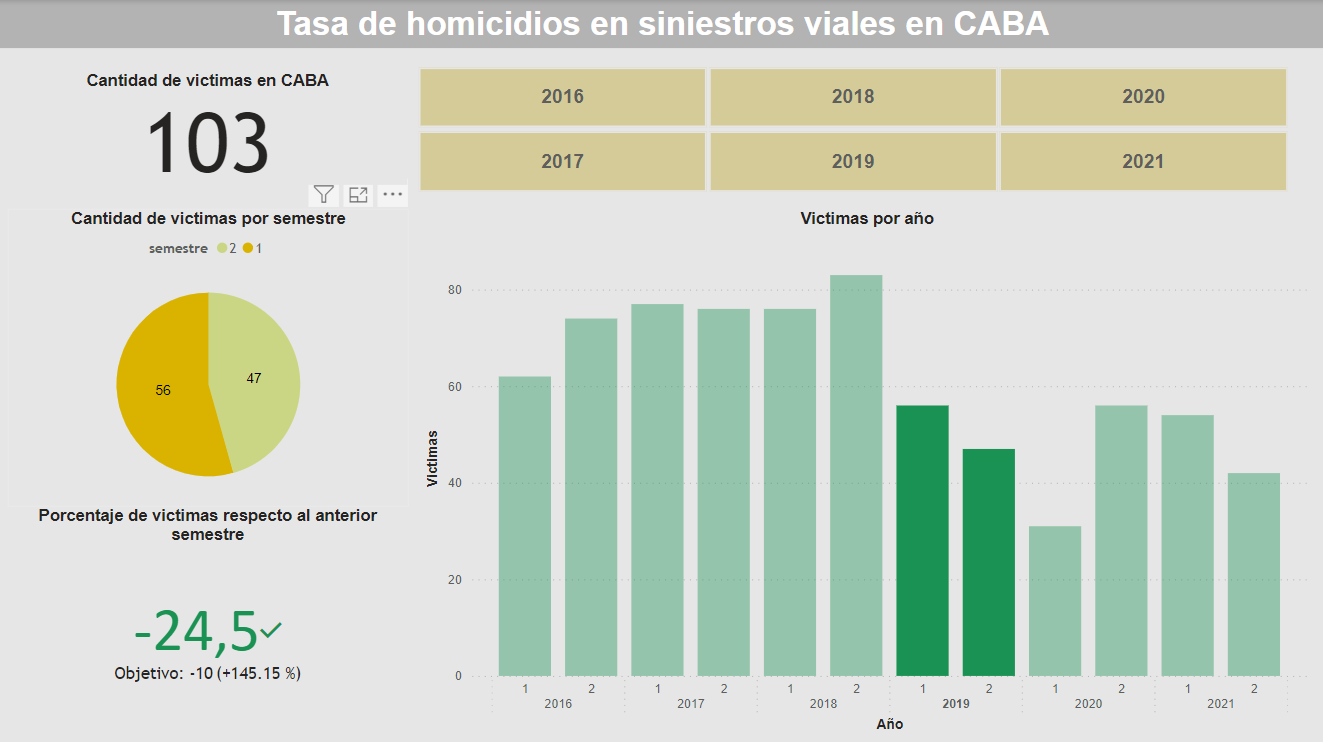

This screenshot's page, from the dashboard's own definition file:
{"tool":"powerbi","page":{"name":"KPI 1","canvas":[1280,720],"ordinal":2},"visuals":[{"type":"pieChart","title":"Cantidad de victimas por semestre","fields":{"Y":["Min(Tasa_homicidios_victimas.N_VICTIMAS)"],"Category":["Tasa_homicidios_victimas.semestre"]},"box":[8.4,201.4,387.1,287],"z":0},{"type":"kpi","title":"Porcentaje de victimas respecto al anterior semestre","fields":{"Indicator":["Avg(Tasa_homicidios_victimas.VARIACION_TASA)"],"Goal":["Tasa_homicidios_victimas.Objetivo"],"TrendLine":["Tasa_homicidios_victimas.Anio"]},"box":[8.4,488.4,385.9,220.7],"z":1000},{"type":"card","title":"Cantidad de victimas en CABA","fields":{"Values":["Sum(Tasa_homicidios_victimas.N_VICTIMAS)"]},"box":[8.2,68.6,385.6,109.8],"z":2000},{"type":"columnChart","title":"Victimas por año","fields":{"Category":["Tasa_homicidios_victimas.Anio","Tasa_homicidios_victimas.semestre"],"Y":["Sum(Tasa_homicidios_victimas.N_VICTIMAS)"]},"box":[407.6,201.4,859.9,510.2],"z":3000},{"type":"textbox","title":"hola","box":[0,0,1280.2,46],"z":4000},{"type":"slicer","fields":{"Values":["Tasa_homicidios_victimas.Anio"]},"box":[378.7,57.9,888.8,133.9],"z":5000}]}

Visuals, with their boxes in screenshot pixels (x1, y1, x2, y2), scaled from the page's 1280x720 canvas onto the 1323x742 screenshot:
"Cantidad de victimas por semestre" pieChart: 9/208/409/503
"Porcentaje de victimas respecto al anterior semestre" kpi: 9/503/408/731
"Cantidad de victimas en CABA" card: 8/71/407/184
"Victimas por año" columnChart: 421/208/1310/733
"hola" textbox: 0/0/1322/47
slicer - Tasa_homicidios_victimas.Anio: 391/60/1310/198
